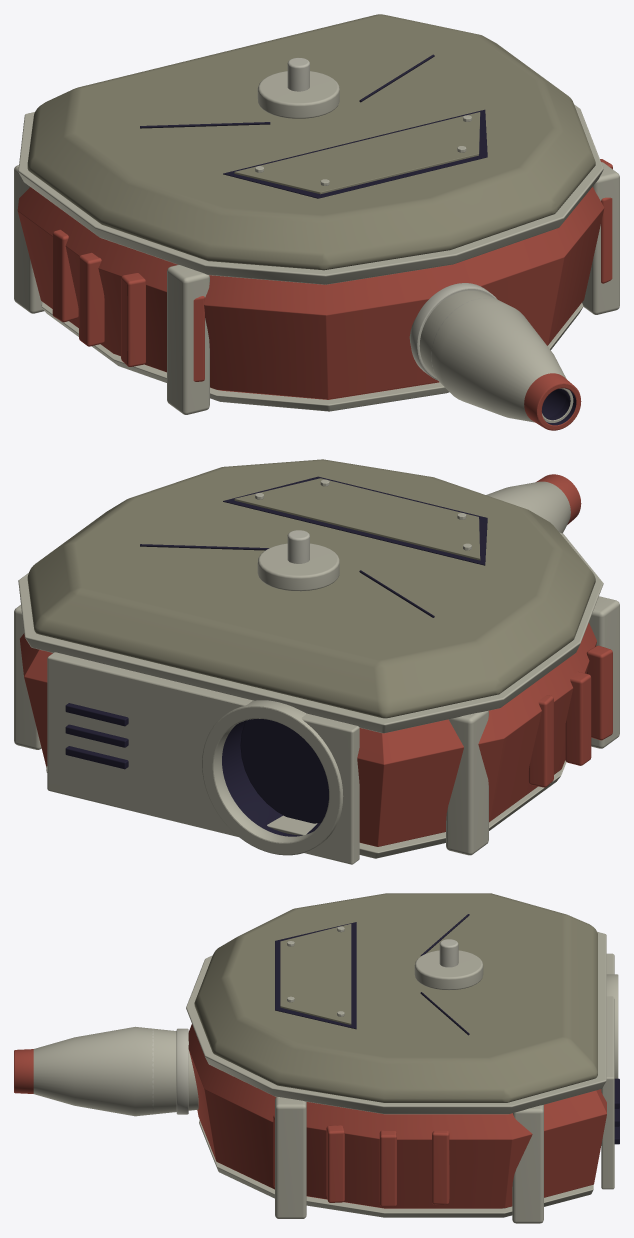
3 renders of one model, top to bottom at view 1: azimuth 30°, elevation 25°; view 2: azimuth 150°, elevation 25°; view 3: azimuth 270°, elevation 25°, orthographic. The views are drawn at different scales.
Visible parts, largest first — view 1: Plasma heavy olive dorsal cover, Plasma thick ribbed pressure casing, Plasma single front assembly, Plasma cover machined perimeter, Plasma front service hatch, Plasma silver corner guard, Plasma lower casing seam, Plasma raised top fitting, Plasma silver corner guard.002, Plasma red casing rib.001, Plasma single front assembly red muzzle sleeve, Plasma red casing rib.002 (+7 smaller); view 2: Plasma heavy olive dorsal cover, Plasma rear service face, Plasma thick ribbed pressure casing, Plasma cover machined perimeter, Plasma front service hatch, Plasma rear aperture lip, Plasma deep rear port stop, Plasma silver corner guard.001, Plasma raised top fitting, Plasma rear aperture sleeve, Plasma lower casing seam, Plasma red casing rib.002 (+11 smaller); view 3: Plasma heavy olive dorsal cover, Plasma thick ribbed pressure casing, Plasma single front assembly, Plasma cover machined perimeter, Plasma front service hatch, Plasma silver corner guard.002, Plasma lower casing seam, Plasma silver corner guard.003, Plasma rear service face, Plasma raised top fitting, Plasma front hatch gasket, Plasma red casing rib.006 (+6 smaller).
Boxes of the visible parts, x1,y1,x2,y2 form: Plasma heavy olive dorsal cover: (27,14,595,270); Plasma thick ribbed pressure casing: (17,186,604,399); Plasma single front assembly: (409,290,573,422); Plasma cover machined perimeter: (18,104,603,284); Plasma front service hatch: (234,112,480,194); Plasma silver corner guard: (167,265,209,414); Plasma lower casing seam: (41,302,583,411); Plasma raised top fitting: (257,71,339,118); Plasma silver corner guard.002: (582,162,619,314); Plasma red casing rib.001: (121,273,145,366); Plasma single front assembly red muzzle sleeve: (524,373,581,430); Plasma red casing rib.002: (79,252,104,346); Plasma heavy olive dorsal cover: (27,459,595,718); Plasma rear service face: (47,652,359,864); Plasma thick ribbed pressure casing: (19,622,596,846); Plasma cover machined perimeter: (18,532,603,733); Plasma front service hatch: (234,478,480,560); Plasma rear aperture lip: (202,700,343,855); Plasma deep rear port stop: (240,719,328,823); Plasma silver corner guard.001: (446,710,488,855); Plasma raised top fitting: (257,543,339,591); Plasma rear aperture sleeve: (222,700,320,836); Plasma lower casing seam: (46,760,566,858); Plasma red casing rib.002: (565,671,591,765); Plasma heavy olive dorsal cover: (194,893,597,1102); Plasma thick ribbed pressure casing: (188,1024,606,1208); Plasma single front assembly: (33,1026,198,1116); Plasma cover machined perimeter: (186,931,606,1114); Plasma front service hatch: (280,924,351,1025); Plasma silver corner guard.002: (275,1097,306,1218); Plasma lower casing seam: (199,1120,593,1217); Plasma silver corner guard.003: (512,1105,543,1223); Plasma rear service face: (601,953,614,1189); Plasma raised top fitting: (414,950,483,989); Plasma front hatch gasket: (275,922,356,1029); Plasma red casing rib.006: (326,1125,344,1202).
Size of the model in its own units: 1.84 by 0.8 by 2.3.
